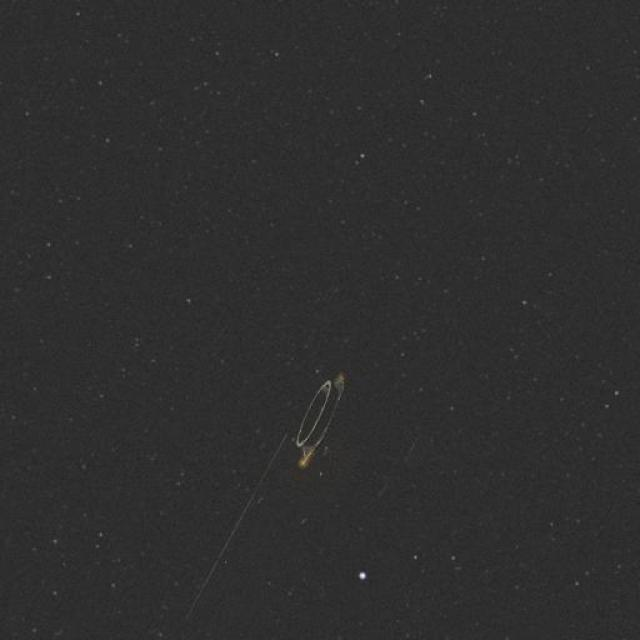earth_observation_sat_1: (273, 359, 425, 569)
